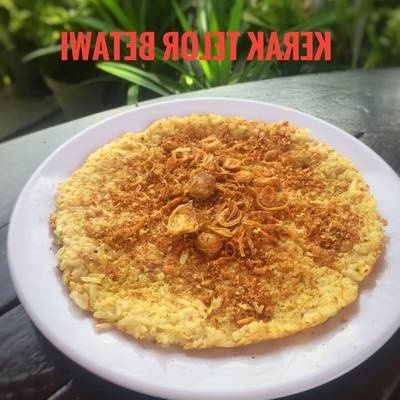kerak_telor: (50, 113, 390, 349)
